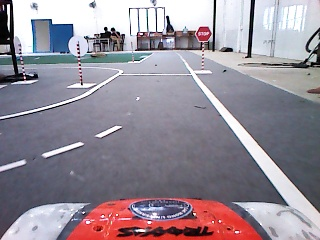stop: (195, 26, 212, 42)
